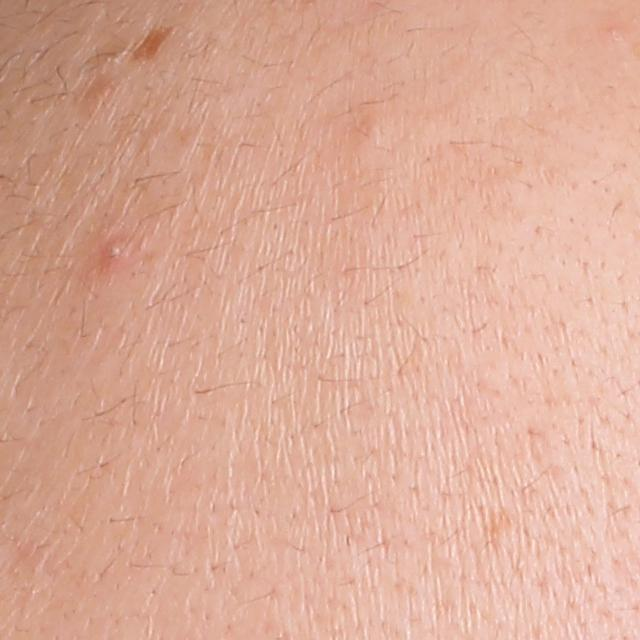comedo: (355, 115, 386, 145)
melasma: (129, 26, 178, 65)
